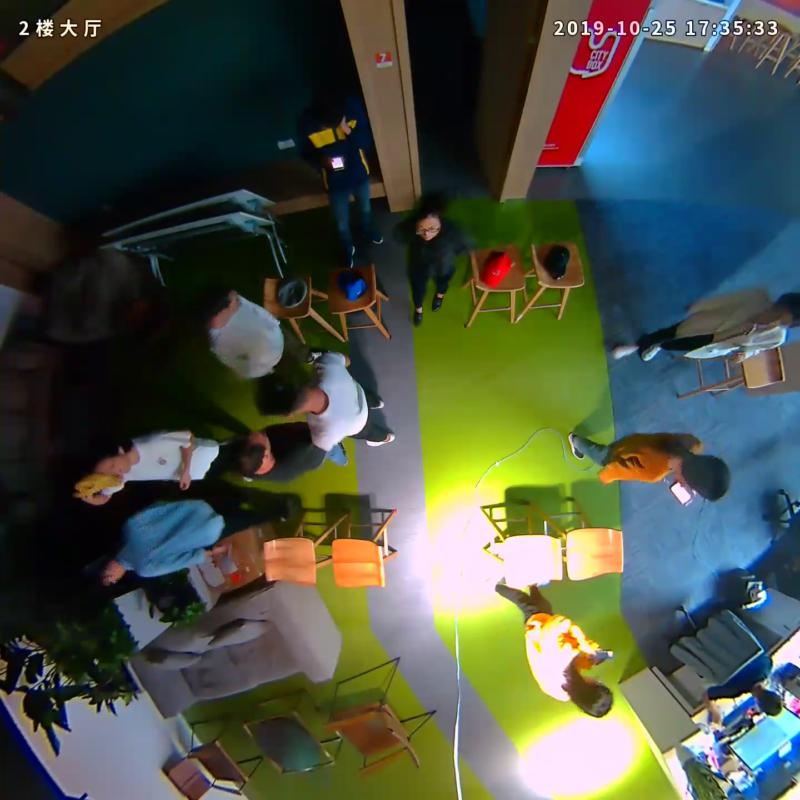head: (673, 453, 730, 503), (253, 373, 308, 420), (190, 281, 241, 326), (86, 436, 135, 478), (77, 550, 127, 589), (572, 678, 614, 719), (305, 80, 347, 120), (412, 188, 443, 241), (763, 293, 800, 332)
